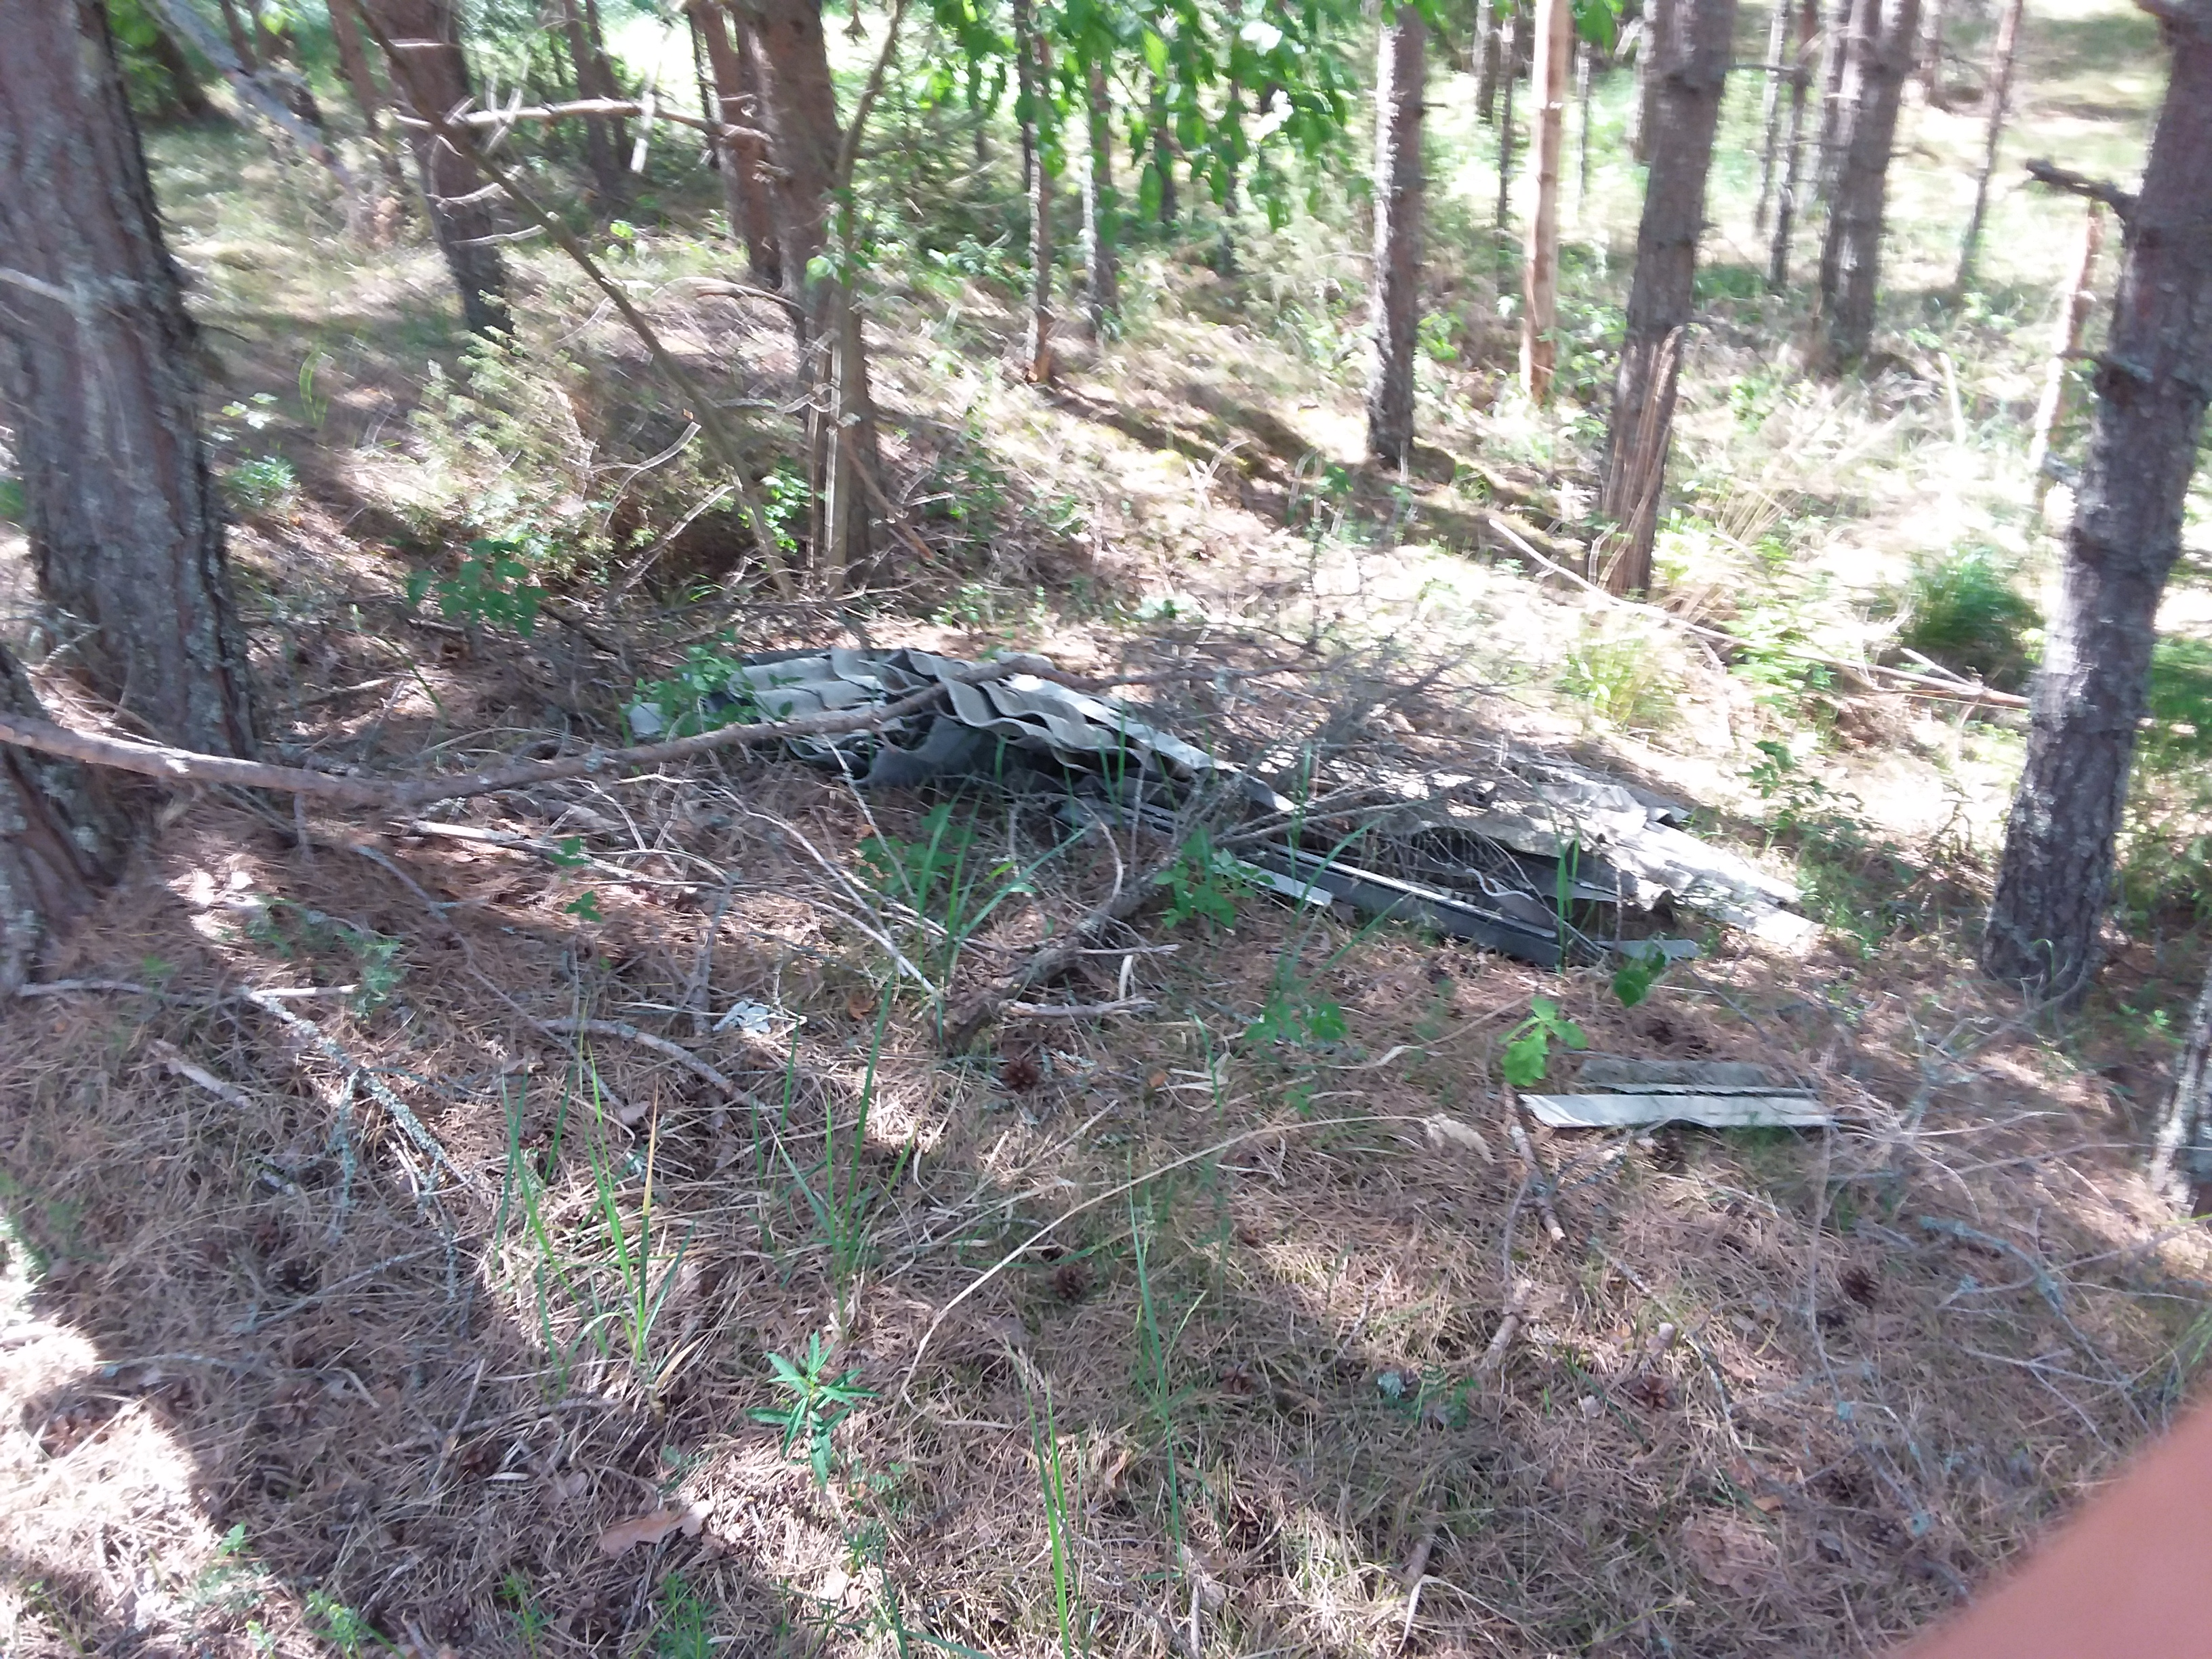trash: (627, 580, 1834, 1148)
